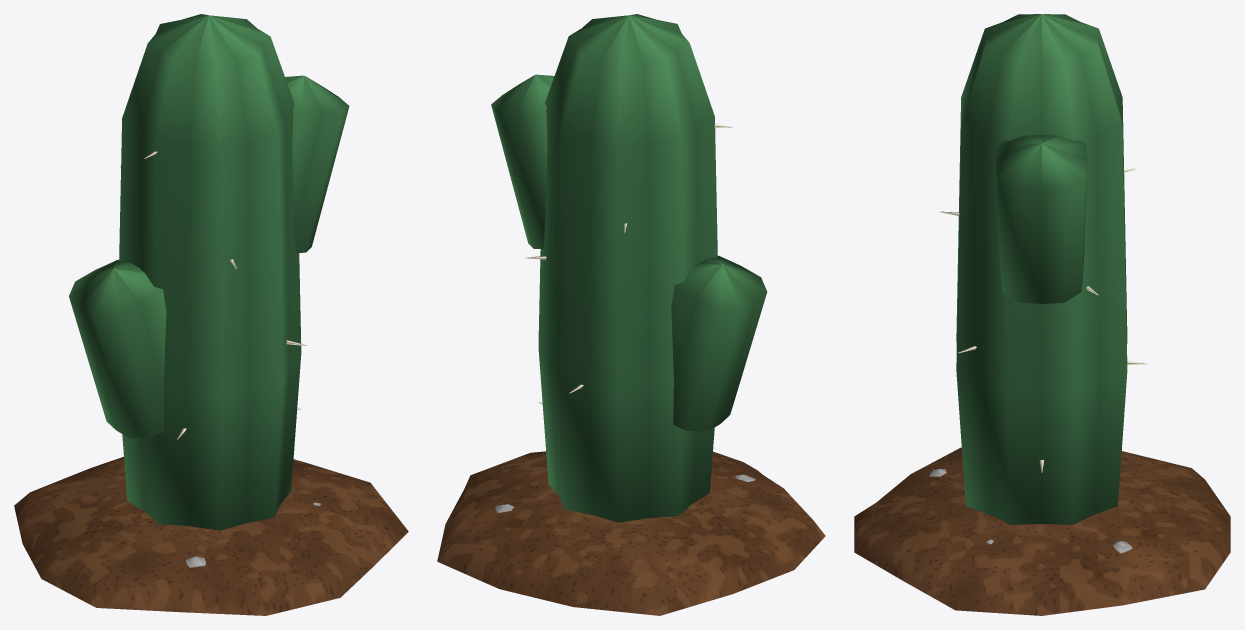
Rendered from plant-cactus-2.glb.
The picture shows the model from 3 angles, left to right: view 1: azimuth 30°, elevation 25°; view 2: azimuth 150°, elevation 25°; view 3: azimuth 270°, elevation 25°; orthographic projection.
Visible parts, largest first — view 1: plant-cactus-2; view 2: plant-cactus-2; view 3: plant-cactus-2.
Part boxes in pixels (x1=…): plant-cactus-2: x1=14, y1=14, x2=408, y2=615; plant-cactus-2: x1=437, y1=14, x2=825, y2=615; plant-cactus-2: x1=854, y1=14, x2=1230, y2=615.
Bounding box in the file's own units: 0.84 × 1.25 × 0.8189.
4 materials, 2 textured.
